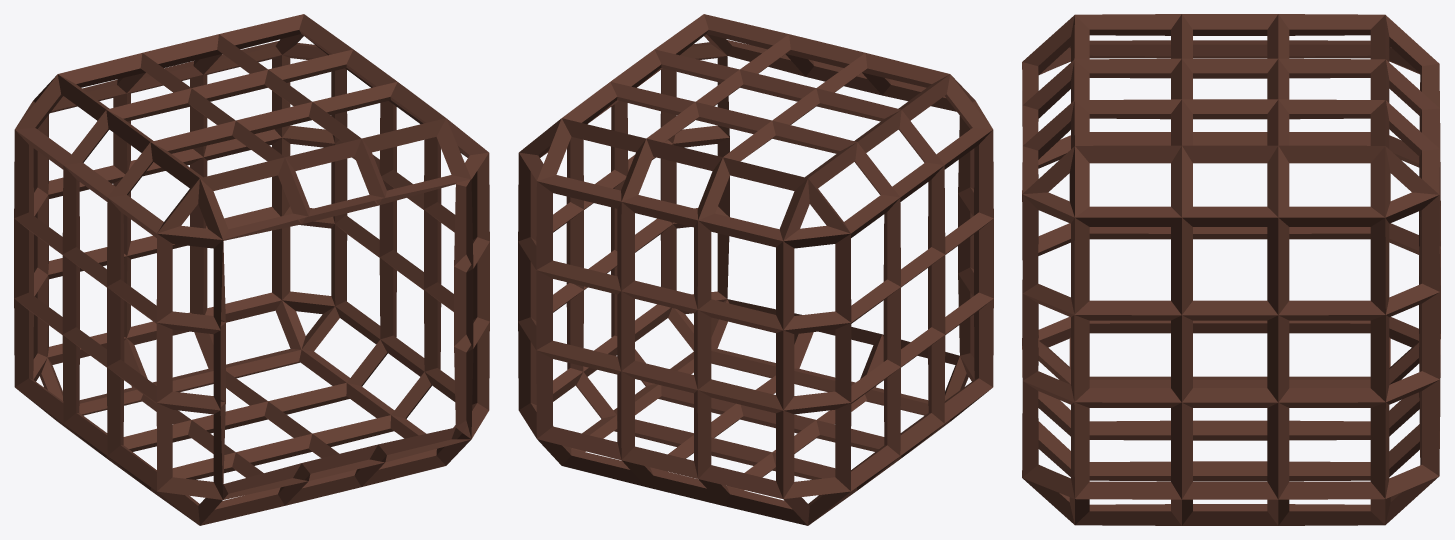
File: cage_noDoor.fbx
3 renders of one model, left to right at view 1: azimuth 30°, elevation 25°; view 2: azimuth 150°, elevation 25°; view 3: azimuth 270°, elevation 25°, orthographic. The views are drawn at different scales.
Visible parts, largest first — view 1: Cube; view 2: Cube; view 3: Cube.
Part boxes in pixels (<box>): Cube: <box>14,14,489,525</box>; Cube: <box>518,14,993,525</box>; Cube: <box>1022,14,1440,525</box>.
Size of the model in its own units: 211 by 211 by 210.
